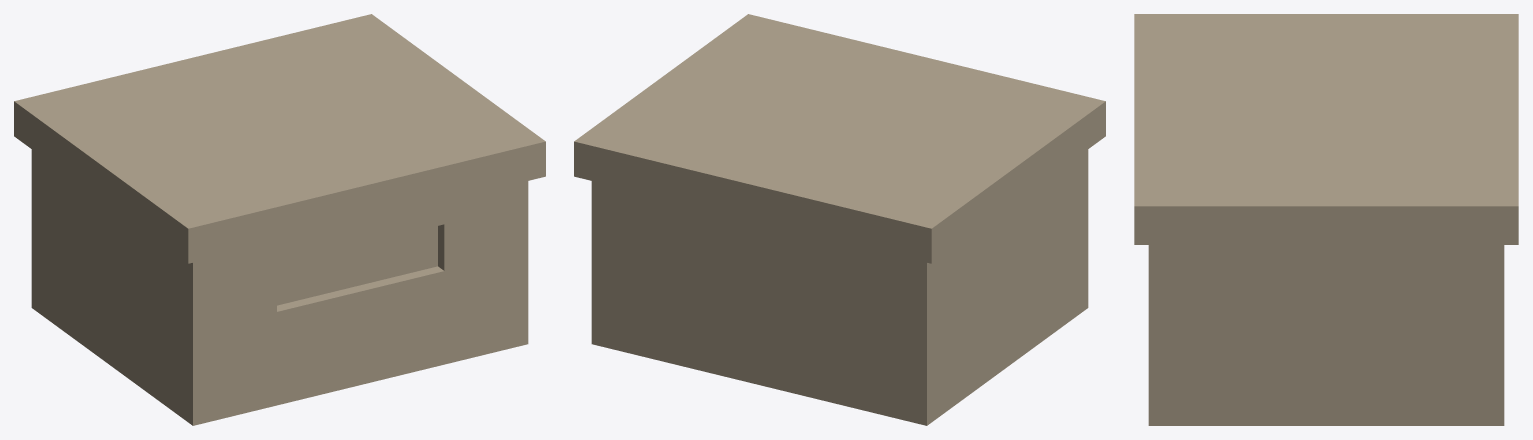
The model's file is bunker.glb.
3 renders of one model, left to right at view 1: azimuth 30°, elevation 25°; view 2: azimuth 150°, elevation 25°; view 3: azimuth 270°, elevation 25°, orthographic. The views are drawn at different scales.
Visible parts, largest first — view 1: bunker; view 2: bunker; view 3: bunker.
Part boxes in pixels (x1,y1,x2,y2): bunker: (14,14,545,425); bunker: (574,14,1105,425); bunker: (1134,14,1518,425).
Bounding box in the file's own units: 3.2 × 1.75 × 2.7.
